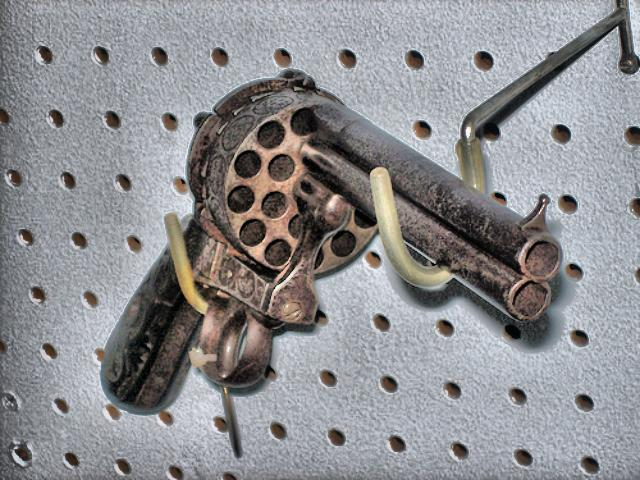pistol: (99, 57, 566, 403)
